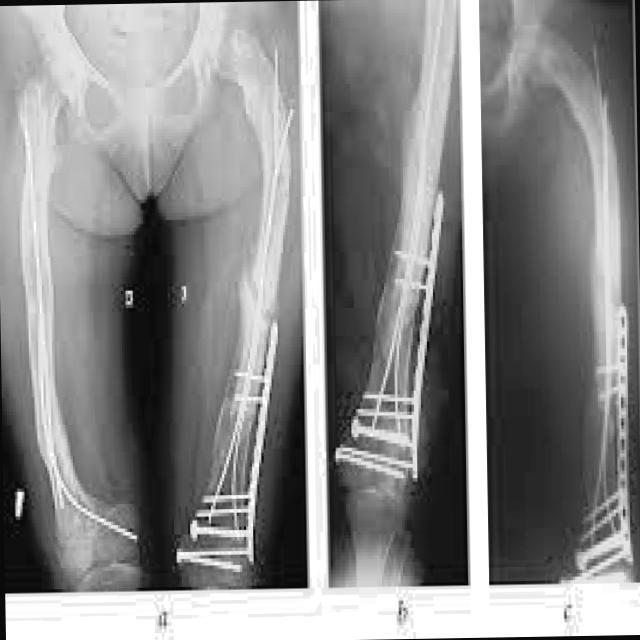Comminuted Fracture: (237, 263, 291, 326)
